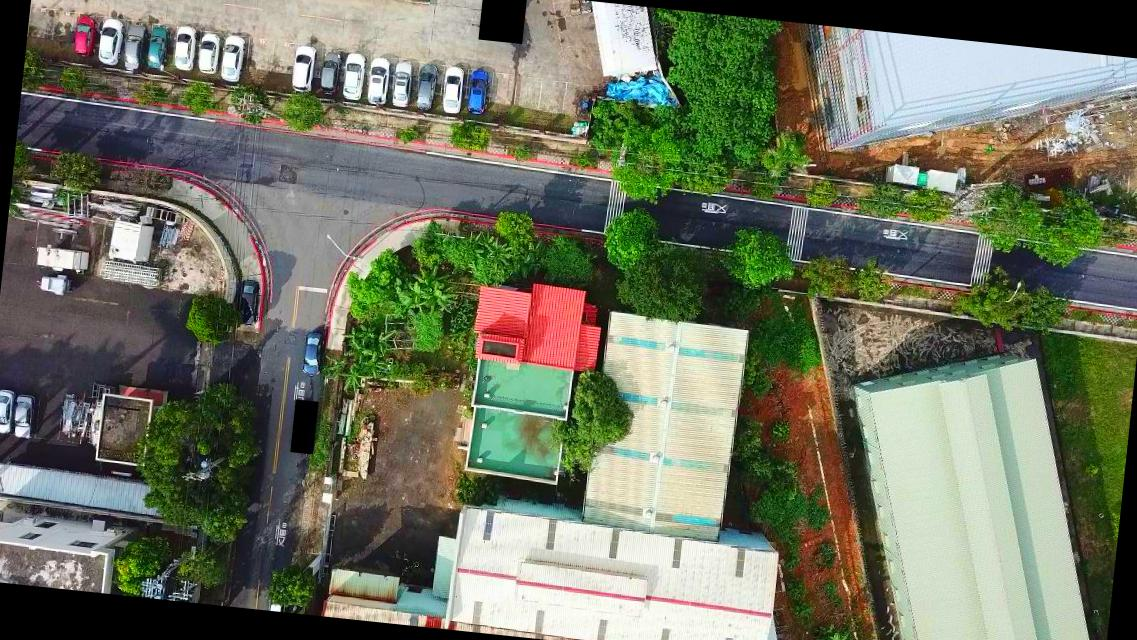vehicle: (290, 43, 321, 93), (463, 66, 492, 117), (340, 51, 368, 102), (366, 57, 394, 108), (413, 62, 440, 114), (96, 18, 125, 66), (440, 66, 468, 115), (315, 48, 342, 98), (220, 32, 245, 84), (390, 59, 416, 108), (237, 278, 262, 328), (300, 328, 324, 380), (11, 392, 36, 440), (194, 32, 221, 75), (123, 23, 147, 71), (172, 26, 196, 74), (72, 13, 96, 60), (147, 26, 169, 70), (0, 386, 15, 437), (265, 590, 286, 611)
